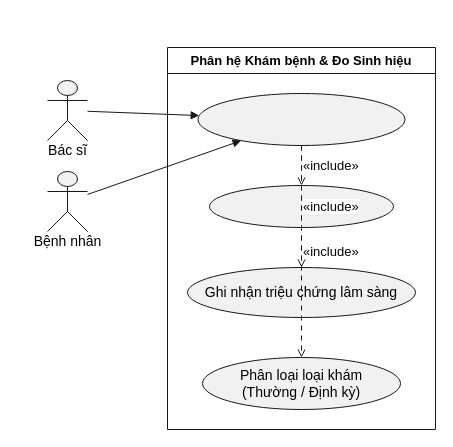
The diagram is 453 pixels wide and 447 high, and some of its shapes have lost their labels. Each missing label, with the centre of its shape:
Khám bệnh & Ghi nhận triệu chứng: (301,119)
Đo các chỉ số sinh hiệu: (301,206)
